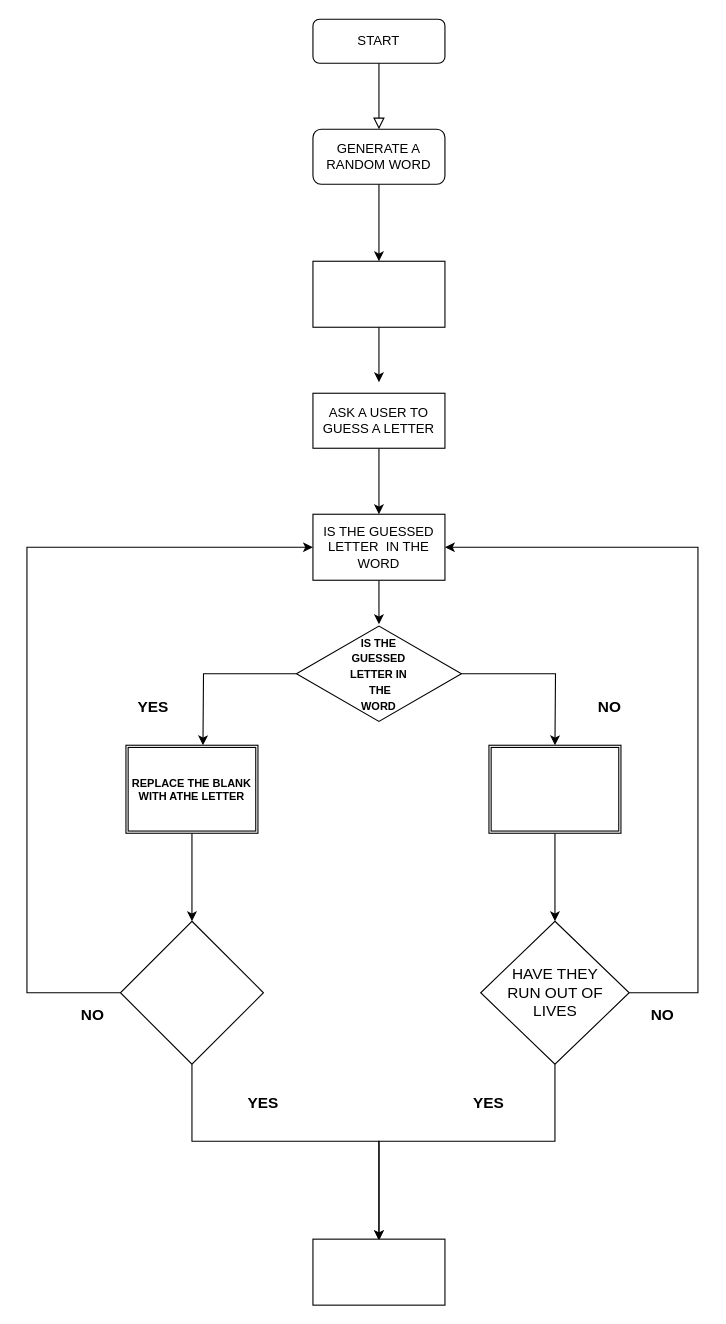
This 726x1324 diagram has some shape labels left out. The box of each missing label's shape, as (x1, y1, x2, y2) in pixels:
ARE ALL THE BLANKS FILLED: (119, 920, 263, 1064)
GAME OVER: (312, 1238, 445, 1305)
GENERATE AS MANY BLANKS AS LETTERS IN WORD: (312, 260, 445, 327)
YOU LOSE A LIFE: (488, 744, 621, 833)
